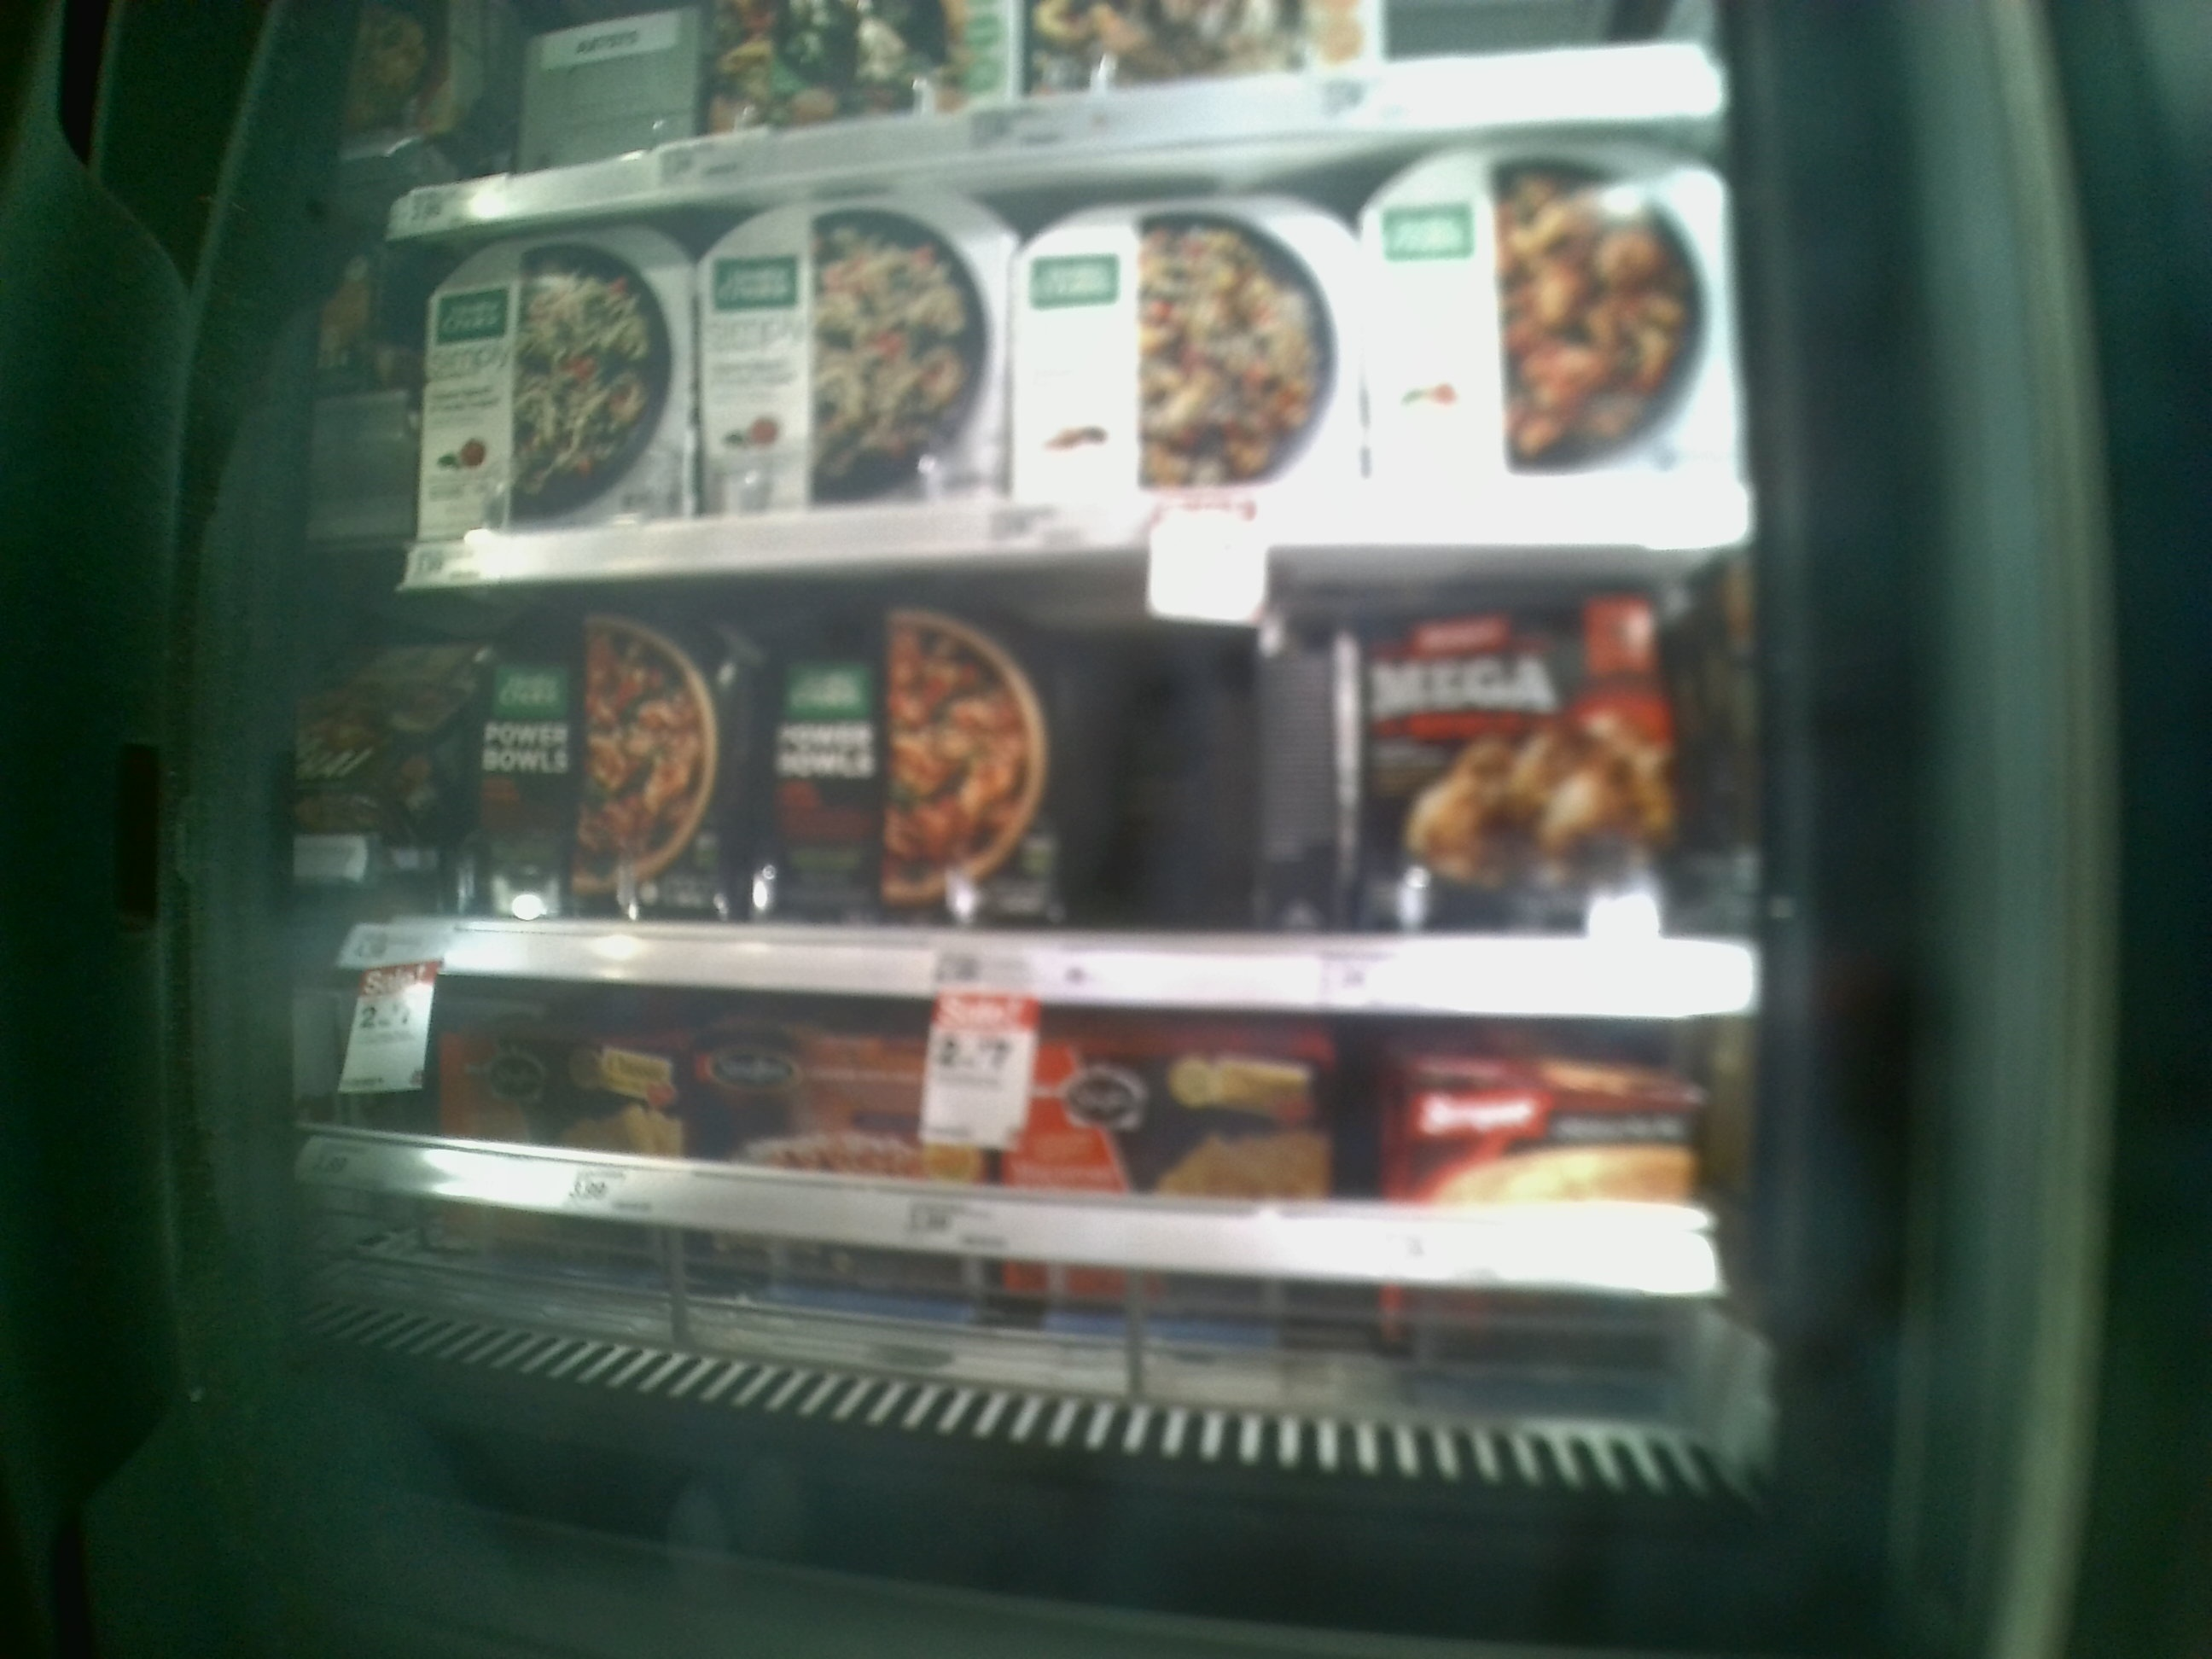pizza: (1359, 143, 1735, 472), (1345, 601, 1683, 918), (1012, 193, 1359, 481), (763, 596, 1064, 925), (707, 199, 1000, 502), (469, 596, 738, 913), (427, 221, 693, 535)
